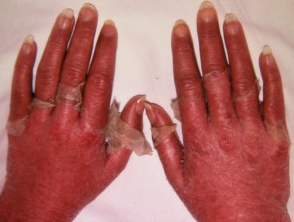SJS-TEN: (0, 0, 155, 222), (144, 2, 294, 222)
